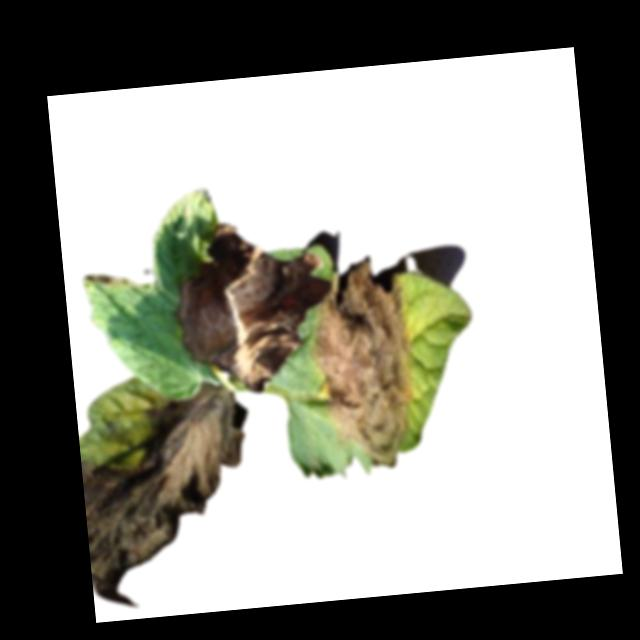Late_blight: (76, 381, 258, 610), (170, 218, 333, 400), (301, 253, 423, 475)
